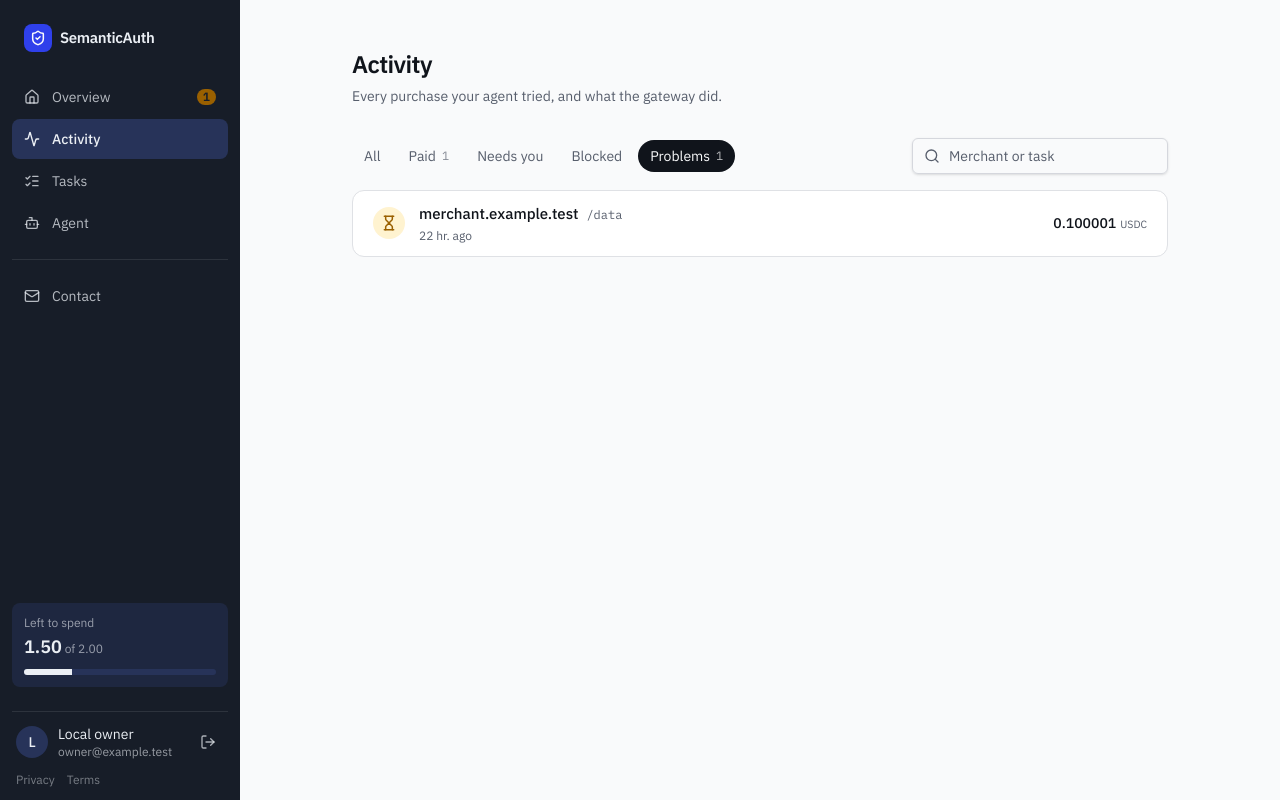
Scenario: activity › files an unconfirmed payment under problems and links settlements to Basescan
The width and height of the screenshot is (1280, 800).
Expected: the picture named "Unconfirmed" is shown, [373, 207, 405, 239]
Expected: the text "paid.example.test" is not shown
Click the link "Paid 1".
click(429, 156)  # box [408, 147, 449, 165]
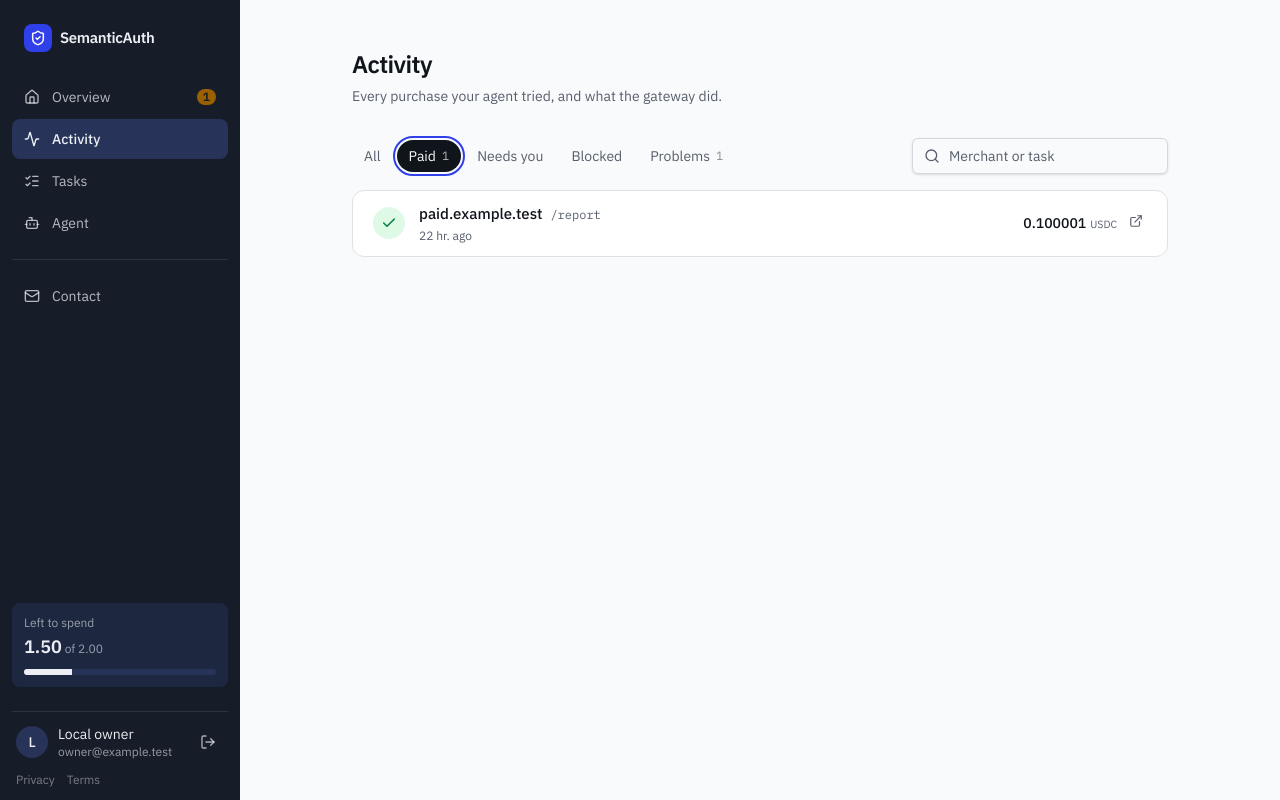
Now the link "paid.example.test" is shown, box [419, 203, 542, 226]
